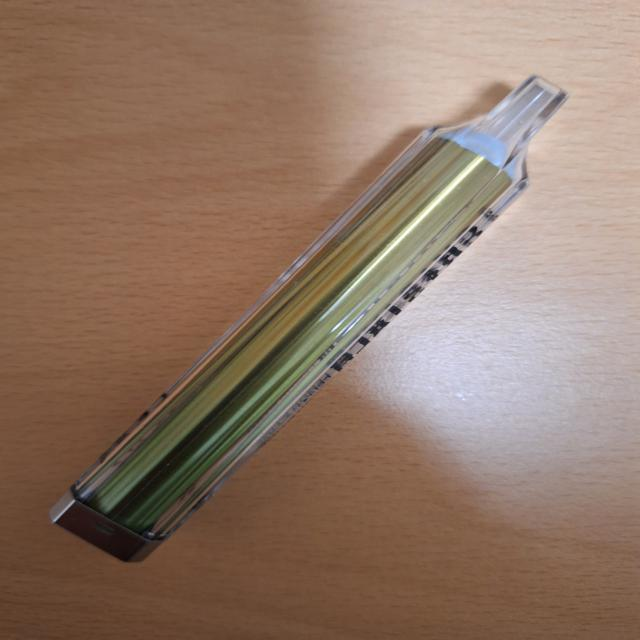Hazard: (48, 73, 570, 563)
